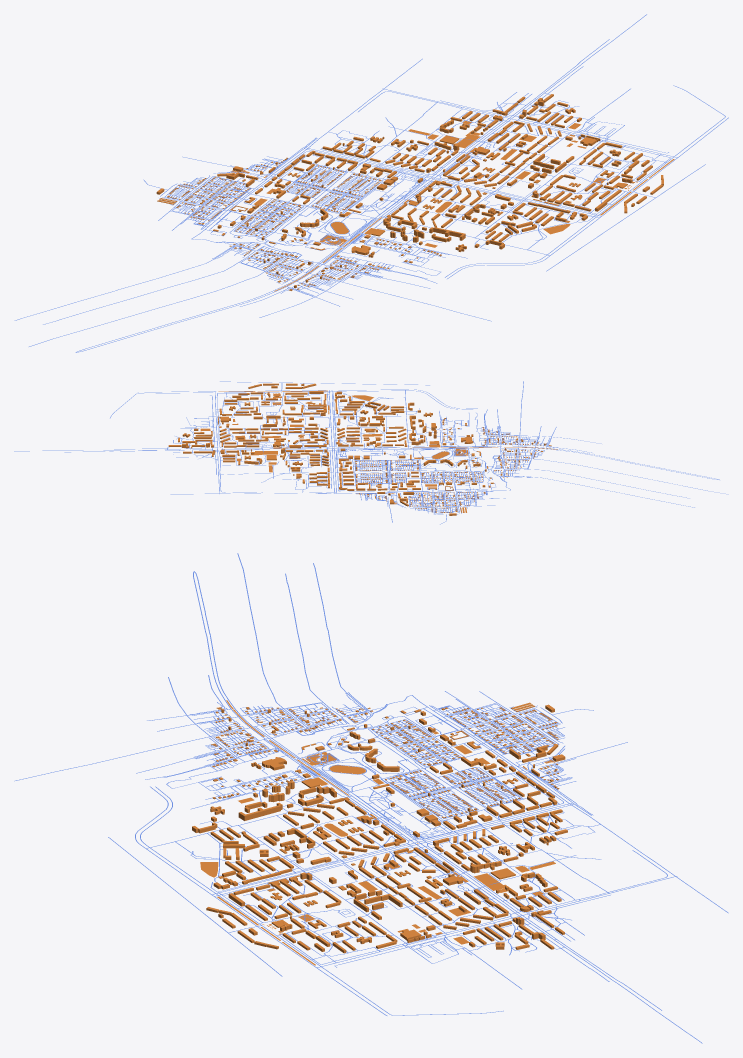
The model's file is maket_rayona.glb.
3 renders of one model, top to bottom at view 1: azimuth 30°, elevation 25°; view 2: azimuth 150°, elevation 25°; view 3: azimuth 270°, elevation 25°, orthographic. The views are drawn at different scales.
Visible parts, largest first — view 1: Ways, Areas; view 2: Ways, Areas; view 3: Areas, Ways.
Part boxes in pixels (<box>): Ways: <box>14,14,728,352</box>; Areas: <box>156,94,674,291</box>; Ways: <box>14,381,728,524</box>; Areas: <box>168,383,557,515</box>; Areas: <box>192,700,567,965</box>; Ways: <box>14,553,728,1043</box>.
Size of the model in its own units: 10852 by 64.09 by 6689.
